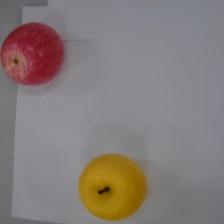red: (0, 22, 65, 84)
yellow: (79, 153, 149, 220)
